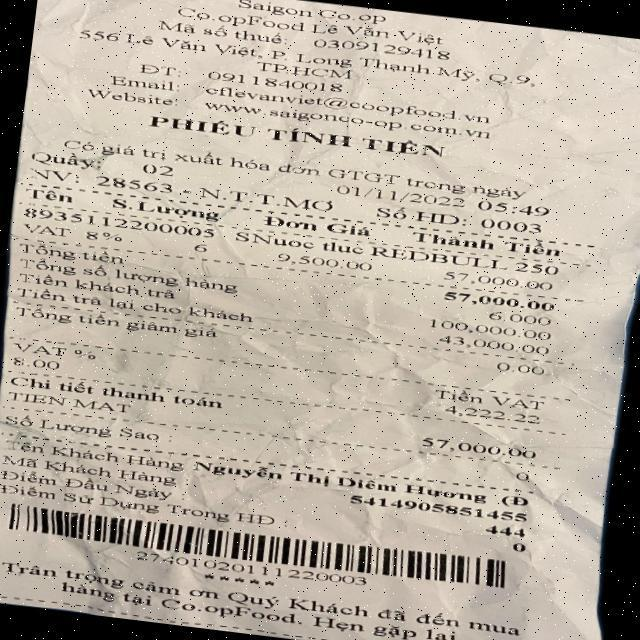Date: (330, 175, 473, 213)
Store_Name: (198, 0, 420, 34)
amount_number: (437, 288, 561, 316)
label_total: (14, 240, 128, 268)
